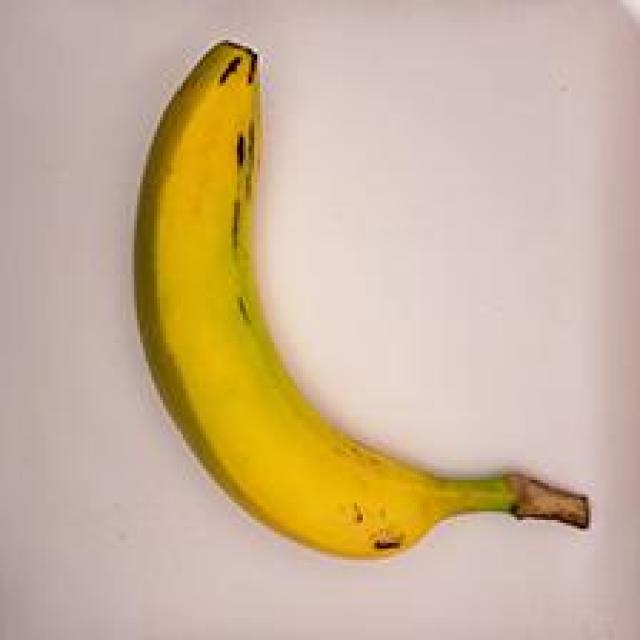unripe: (85, 36, 614, 578)
